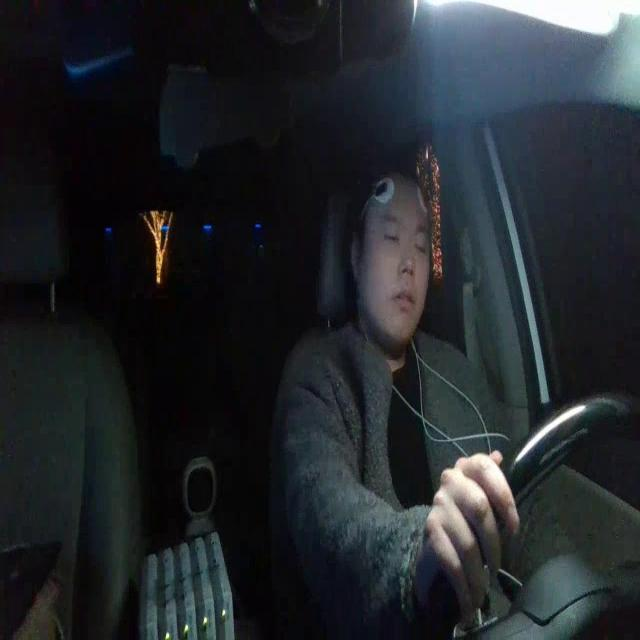Inattentive: (348, 153, 432, 344)
